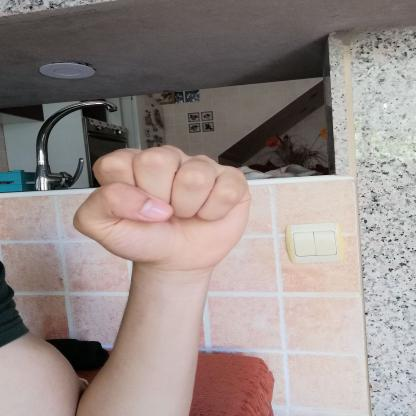SAD: (52, 132, 269, 280)
